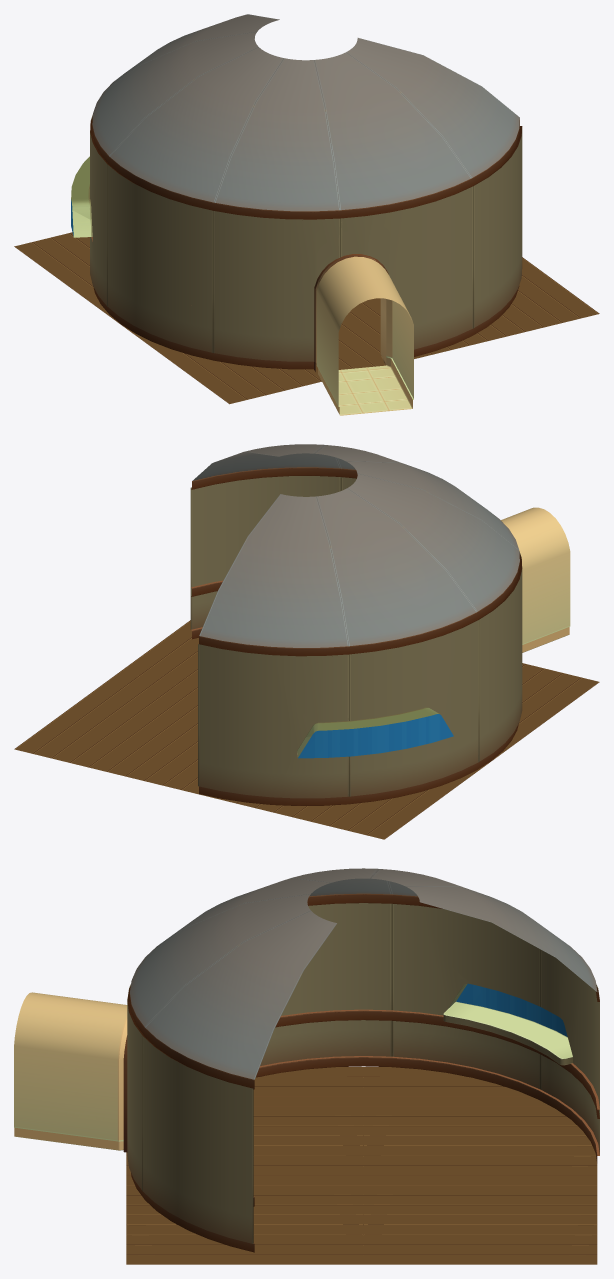
File: jia_fangzi.FBX
The picture shows the model from 3 angles, top to bottom: view 1: azimuth 30°, elevation 25°; view 2: azimuth 150°, elevation 25°; view 3: azimuth 270°, elevation 25°; orthographic projection. The views are drawn at different scales.
Parts seen in each view (by area): view 1: jia_fangzi; view 2: jia_fangzi; view 3: jia_fangzi.
Part boxes in pixels (box(x1,y1,x2,y2)): jia_fangzi: box(14, 14, 599, 415); jia_fangzi: box(14, 444, 599, 839); jia_fangzi: box(14, 868, 599, 1264).
Bounding box in the file's own units: 912 × 560 × 1128.
